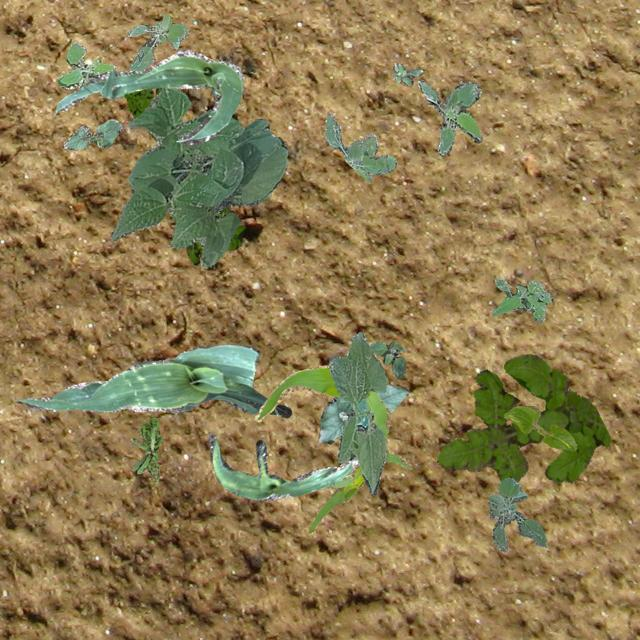crop: (110, 86, 286, 268), (254, 364, 411, 534), (17, 342, 290, 417), (55, 49, 243, 144), (208, 410, 358, 500), (328, 332, 386, 494), (318, 383, 408, 442), (502, 404, 576, 450), (61, 118, 120, 148)
weed: (436, 354, 610, 482), (122, 86, 244, 264), (416, 78, 481, 154), (324, 114, 394, 182), (486, 476, 544, 550), (126, 14, 188, 70), (56, 42, 115, 88), (491, 278, 552, 322), (130, 416, 160, 481), (369, 339, 405, 378), (391, 62, 422, 84)
